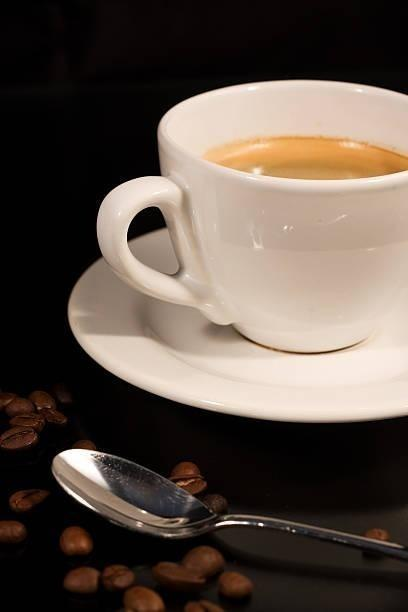cup-handle: (95, 78, 407, 355)
